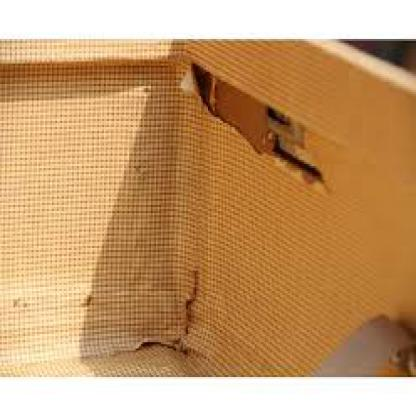CARDBOARD: (0, 35, 415, 374)
